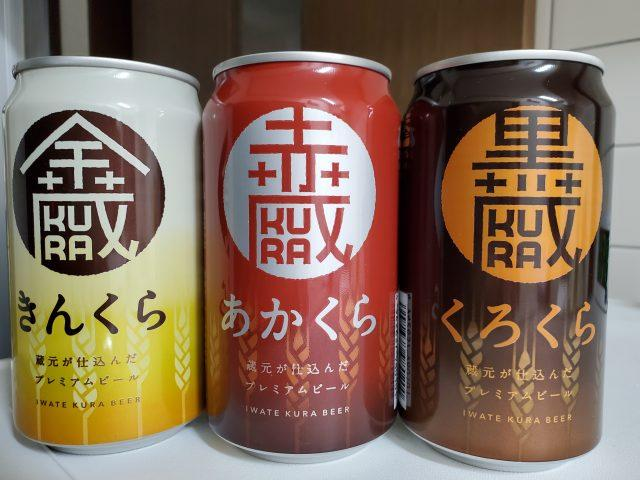metal: (398, 46, 617, 473), (2, 57, 204, 455), (200, 52, 395, 460)
